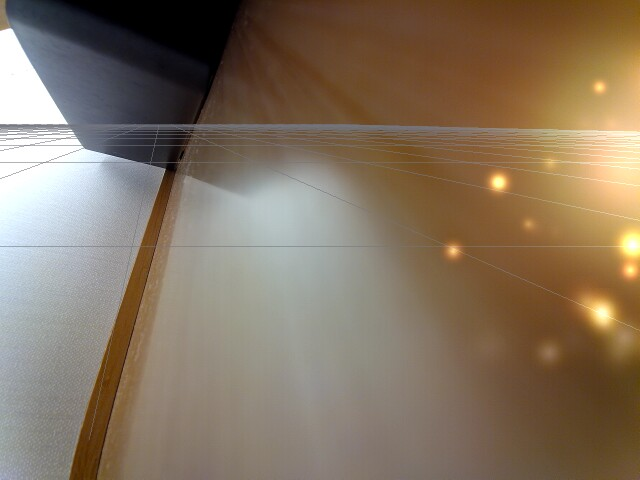fire: (584, 298, 618, 329), (613, 226, 639, 263), (486, 165, 509, 195)
